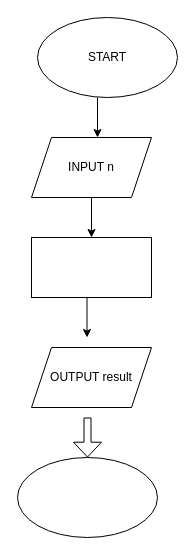
The diagram is 195 pixels wide and 555 high, and some of its shapes have lost their labels. Here are the shapes that lost their labels. From the top down, the centre of each, then its label:
the point at 91,267: RESULT = n*n
the point at 87,497: END
